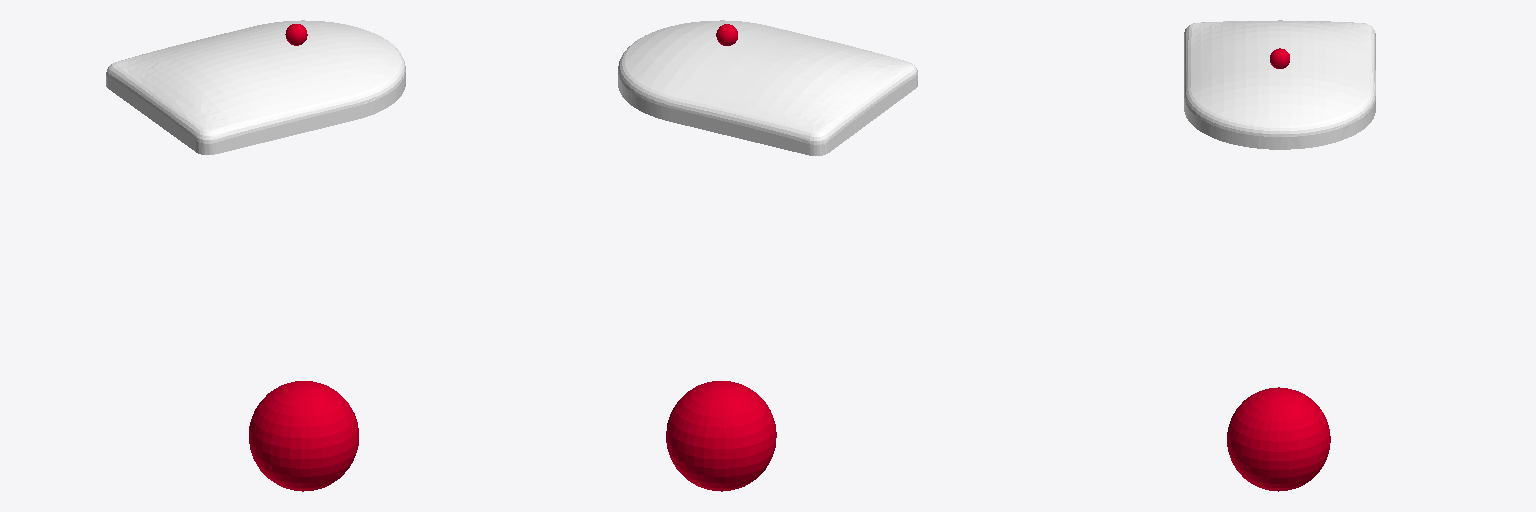
URDF robot description (lbr_iiwa):
<?xml version="1.0" ?>
<!-- ======================================================================= -->
<!-- | This document was autogenerated by xacro from lbr_iiwa.urdf.xacro   | -->
<!-- | Original xacro: https://github.com/rtkg/lbr_iiwa/archive/master.zip | -->
<!-- | EDITING THIS FILE BY HAND IS NOT RECOMMENDED                        | -->
<!-- | Changes ([author]):                                                 | -->
<!-- |   * Removed gazebo tags.                                            | -->
<!-- |   * Removed unused materials.                                       | -->
<!-- |   * Made mesh paths relative.                                       | -->
<!-- |   * Removed material fields from collision segments.                | -->
<!-- |   * Removed the self_collision_checking segment.                    | -->
<!-- |   * Removed transmission segments, since they didn't match the      | -->
<!-- |     convention, will have to added back later.                      | -->
<!-- ======================================================================= -->
<!--LICENSE:                                                                 -->
<!--Copyright (c) 2015, [author] & [author], AASS Research Center,  -->
<!--Orebro University, Sweden                                                -->
<!--All rights reserved.                                                     -->
<!--                                                                         -->
<!--Redistribution and use in source and binary forms, with or without       -->
<!--modification, are permitted provided that the following conditions are   -->
<!--met:                                                                     -->
<!--                                                                         -->
<!--1. Redistributions of source code must retain the above copyright notice,-->
<!--   this list of conditions and the following disclaimer.                 -->
<!--                                                                         -->
<!--2. Redistributions in binary form must reproduce the above copyright     -->
<!--   notice, this list of conditions and the following disclaimer in the   -->
<!--   documentation and/or other materials provided with the distribution.  -->
<!--                                                                         -->
<!--THIS SOFTWARE IS PROVIDED BY THE COPYRIGHT [author] "AS  -->
<!--IS" AND ANY EXPRESS OR IMPLIED WARRANTIES, INCLUDING, BUT NOT LIMITED TO,-->
<!--THE IMPLIED WARRANTIES OF MERCHANTABILITY AND FITNESS FOR A PARTICULAR   -->
<!--PURPOSE ARE DISCLAIMED. IN NO EVENT SHALL THE COPYRIGHT [author]        -->
<!--CONTRIBUTORS BE LIABLE FOR ANY DIRECT, INDIRECT, INCIDENTAL, SPECIAL,    -->
<!--EXEMPLARY, OR CONSEQUENTIAL DAMAGES (INCLUDING, BUT NOT LIMITED TO,      -->
<!--PROCUREMENT OF SUBSTITUTE GOODS OR SERVICES; LOSS OF USE, DATA, OR       -->
<!--PROFITS; OR BUSINESS INTERRUPTION) HOWEVER CAUSED AND ON ANY THEORY OF   -->
<!--LIABILITY, WHETHER IN CONTRACT, STRICT LIABILITY, OR TORT (INCLUDING     -->
<!--NEGLIGENCE OR OTHERWISE) ARISING IN ANY WAY OUT OF THE USE OF THIS       -->
<!--SOFTWARE, EVEN IF ADVISED OF THE POSSIBILITY OF SUCH DAMAGE.             -->

<robot name="lbr_iiwa" xmlns:xacro="http://www.ros.org/wiki/xacro">

  <!-- Import Rviz colors -->
  <material name="Grey">
    <color rgba="0.2 0.2 0.2 1.0"/>
  </material>
  <material name="Orange">
    <color rgba="1.0 0.423529411765 0.0392156862745 1.0"/>
  </material>
  <material name="Blue">
  <color rgba="0.5 0.7 1.0 1.0"/>
</material>
<material name="TransparentRed">
  <color rgba="0.9 0 0.2 0.5"/>
</material>

<link name="world"/>
<joint name="world_joint" type="fixed">
  <parent link="world"/>
  <child link="base_link"/>
  <origin rpy="0.0 0.0 0.0" xyz="0.0 0.0 0.0"/>
</joint>


  <link name="base_link">
    <inertial>
      <origin rpy="0 0 0" xyz="-0.1 0 0.07"/>
      <mass value="0.0"/>
      <inertia ixx="0.05" ixy="0" ixz="0" iyy="0.06" iyz="0" izz="0.03"/>
    </inertial>
    <visual>
      <origin rpy="0 0 0" xyz="0 0 0"/>
      <geometry>
        <mesh filename="meshes/link_0.obj"/>
      </geometry>
      <material name="Grey"/>
    </visual>
    <collision>
      <origin rpy="0 0 0" xyz="0 0 0"/>
      <geometry>
        <mesh filename="meshes/link_0.stl"/>
      </geometry>
    </collision>
  </link>

  <!-- joint between link_0 and link_1 -->
  <joint name="lbr_iiwa_joint_1" type="revolute">
    <parent link="base_link"/>
    <child link="lbr_iiwa_link_1"/>
    <origin rpy="0 0 0" xyz="0 0 0.1575"/>
    <axis xyz="0 0 1"/>
    <limit effort="300" lower="-100" upper="100" velocity="10"/>
    <dynamics damping="0.5"/>
  </joint>

  <link name="lbr_iiwa_link_1">
    <inertial>
      <origin rpy="0 0 0" xyz="0 -0.03 0.12"/>
      <mass value="4"/>
      <inertia ixx="0.1" ixy="0" ixz="0" iyy="0.09" iyz="0" izz="0.02"/>
    </inertial>
    <visual>
      <origin rpy="0 0 0" xyz="0 0 0"/>
      <geometry>
        <mesh filename="meshes/link_1.obj"/>
      </geometry>
      <material name="Blue"/>
    </visual>
    <collision>
      <origin rpy="0 0 0" xyz="0 0 0"/>
      <geometry>
        <mesh filename="meshes/link_1.stl"/>
      </geometry>
    </collision>
  </link>

  <!-- joint between link_1 and link_2 -->
  <joint name="lbr_iiwa_joint_2" type="revolute">
    <parent link="lbr_iiwa_link_1"/>
    <child link="lbr_iiwa_link_2"/>
    <origin rpy="1.57079632679   0 3.14159265359" xyz="0 0 0.2025"/>
    <axis xyz="0 0 1"/>
    <limit effort="300" lower="-100" upper="100" velocity="10"/>
    <dynamics damping="0.5"/>
  </joint>

  <link name="lbr_iiwa_link_2">
    <inertial>
      <origin rpy="0 0 0" xyz="0.0003 0.059 0.042"/>
      <mass value="4"/>
      <inertia ixx="0.05" ixy="0" ixz="0" iyy="0.018" iyz="0" izz="0.044"/>
    </inertial>
    <visual>
      <origin rpy="0 0 0" xyz="0 0 0"/>
      <geometry>
        <mesh filename="meshes/link_2.obj"/>
      </geometry>
      <material name="Blue"/>
    </visual>
    <collision>
      <origin rpy="0 0 0" xyz="0 0 0"/>
      <geometry>
        <mesh filename="meshes/link_2.stl"/>
      </geometry>
    </collision>
  </link>

  <!-- joint between link_2 and link_3 -->
  <joint name="lbr_iiwa_joint_3" type="revolute">
    <parent link="lbr_iiwa_link_2"/>
    <child link="lbr_iiwa_link_3"/>
    <origin rpy="1.57079632679 0 3.14159265359" xyz="0 0.2045 0"/>
    <axis xyz="0 0 1"/>
    <limit effort="300" lower="-100" upper="100" velocity="10"/>
    <dynamics damping="0.5"/>
  </joint>

  <link name="lbr_iiwa_link_3">
    <inertial>
      <origin rpy="0 0 0" xyz="0 0.03 0.13"/>
      <mass value="3"/>
      <inertia ixx="0.08" ixy="0" ixz="0" iyy="0.075" iyz="0" izz="0.01"/>
    </inertial>
    <visual>
      <origin rpy="0 0 0" xyz="0 0 0"/>
      <geometry>
        <mesh filename="meshes/link_3.obj"/>
      </geometry>
      <material name="Orange"/>
    </visual>
    <collision>
      <origin rpy="0 0 0" xyz="0 0 0"/>
      <geometry>
        <mesh filename="meshes/link_3.stl"/>
      </geometry>
    </collision>
  </link>

  <!-- joint between link_3 and link_4 -->
  <joint name="lbr_iiwa_joint_4" type="revolute">
    <parent link="lbr_iiwa_link_3"/>
    <child link="lbr_iiwa_link_4"/>
    <origin rpy="1.57079632679 0 0" xyz="0 0 0.2155"/>
    <axis xyz="0 0 1"/>
    <limit effort="300" lower="-100" upper="100" velocity="10"/>
    <dynamics damping="0.5"/>
  </joint>

  <link name="lbr_iiwa_link_4">
    <inertial>
      <origin rpy="0 0 0" xyz="0 0.067 0.034"/>
      <mass value="2.7"/>
      <inertia ixx="0.03" ixy="0" ixz="0" iyy="0.01" iyz="0" izz="0.029"/>
    </inertial>
    <visual>
      <origin rpy="0 0 0" xyz="0 0 0"/>
      <geometry>
        <mesh filename="meshes/link_4.obj"/>
      </geometry>
      <material name="Blue"/>
    </visual>
    <collision>
      <origin rpy="0 0 0" xyz="0 0 0"/>
      <geometry>
        <mesh filename="meshes/link_4.stl"/>
      </geometry>
    </collision>
  </link>

  <!-- joint between link_4 and link_5 -->
  <joint name="lbr_iiwa_joint_5" type="revolute">
    <parent link="lbr_iiwa_link_4"/>
    <child link="lbr_iiwa_link_5"/>
    <origin rpy="-1.57079632679 3.14159265359 0" xyz="0 0.1845 0"/>
    <axis xyz="0 0 1"/>
    <limit effort="300" lower="-100" upper="100" velocity="10"/>
    <dynamics damping="0.5"/>
  </joint>

  <link name="lbr_iiwa_link_5">
    <inertial>
      <origin rpy="0 0 0" xyz="0.0001 0.021 0.076"/>
      <mass value="1.7"/>
      <inertia ixx="0.02" ixy="0" ixz="0" iyy="0.018" iyz="0" izz="0.005"/>
    </inertial>
    <visual>
      <origin rpy="0 0 0" xyz="0 0 0"/>
      <geometry>
        <mesh filename="meshes/link_5.obj"/>
      </geometry>
      <material name="Blue"/>
    </visual>
    <collision>
      <origin rpy="0 0 0" xyz="0 0 0"/>
      <geometry>
        <mesh filename="meshes/link_5.stl"/>
      </geometry>
    </collision>
  </link>

  <!-- joint between link_5 and link_6 -->
  <joint name="lbr_iiwa_joint_6" type="revolute">
    <parent link="lbr_iiwa_link_5"/>
    <child link="lbr_iiwa_link_6"/>
    <origin rpy="1.57079632679 0 0" xyz="0 0 0.2155"/>
    <axis xyz="0 0 1"/>
    <limit effort="300" lower="-100" upper="100" velocity="10"/>
    <dynamics damping="0.5"/>
  </joint>

  <link name="lbr_iiwa_link_6">
    <inertial>
      <origin rpy="0 0 0" xyz="0 0.0006 0.0004"/>
      <mass value="1.8"/>
      <inertia ixx="0.005" ixy="0" ixz="0" iyy="0.0036" iyz="0" izz="0.0047"/>
    </inertial>
    <visual>
      <origin rpy="0 0 0" xyz="0 0 0"/>
      <geometry>
        <mesh filename="meshes/link_6.obj"/>
      </geometry>
      <material name="Orange"/>
    </visual>
    <collision>
      <origin rpy="0 0 0" xyz="0 0 0"/>
      <geometry>
        <mesh filename="meshes/link_6.stl"/>
      </geometry>
    </collision>
  </link>

  <!-- joint between link_6 and link_7 -->
  <joint name="lbr_iiwa_joint_7" type="revolute">
    <parent link="lbr_iiwa_link_6"/>
    <child link="lbr_iiwa_link_7"/>
    <origin rpy="-1.57079632679 3.14159265359 0" xyz="0 0.081 0"/>
    <axis xyz="0 0 1"/>
    <limit effort="300" lower="-100" upper="100" velocity="10"/>
    <dynamics damping="0.5"/>
  </joint>

  <link name="lbr_iiwa_link_7">
    <inertial>
      <origin rpy="0 0 0" xyz="0 0 0.02"/>
      <mass value="0.3"/>
      <inertia ixx="0.001" ixy="0" ixz="0" iyy="0.001" iyz="0" izz="0.001"/>
    </inertial>
    <visual>
      <origin rpy="0 0 0" xyz="0 0 0"/>
      <geometry>
        <mesh filename="meshes/link_7.obj"/>
      </geometry>
      <material name="Grey"/>
    </visual>
    <collision>
      <origin rpy="0 0 0" xyz="0 0 0"/>
      <geometry>
        <mesh filename="meshes/link_7.stl"/>
      </geometry>
    </collision>
  </link>


  <!-- End Effector -->

  <joint name="ee_joint" type="fixed">
    <parent link="lbr_iiwa_link_7"/>
    <child link="ee_link"/>
    <origin rpy="3.14 0.0 0.0" xyz="0.0 0.0 0.04"/>
  </joint>

  <link name="ee_link">
    <visual>
      <origin rpy="0 0 0" xyz="0 0 0"/>
      <geometry>
        <sphere radius="0.005"/>
      </geometry>
       <material name="TransparentRed"/>
    </visual>
    <collision>
      <geometry>
        <sphere radius="0.001"/>
      </geometry>
      <origin rpy="0 0 0" xyz="0.0 0 0"/>
    </collision>
    <inertial>
      <mass value="0.0"/>
      <origin rpy="-3.14 0.0 1.57" xyz="0.0 0.0 0.0"/>
      <inertia ixx="0.001" ixy="0.0" ixz="0.0" iyy="0.001" iyz="0.0" izz="0.001"/>
    </inertial>
  </link>

  <!-- Digit -->
  <link
    name="digit_body_link">
    <inertial>
      <origin
        xyz="0.00443338071044421 -0.0140914049333968 4.96453152977634E-09+0.035"
        rpy="0 0 0" />
      <mass
        value="0.0077837104153161" />
      <inertia
        ixx="7.77176839696665E-07"
        ixy="-5.52554519832781E-09"
        ixz="-2.21347841658254E-13"
        iyy="1.5788930001559E-06"
        iyz="-8.96409493368731E-14"
        izz="1.05613167218354E-06" />
    </inertial>
    <visual>
      <origin
        xyz="0 0 0.035"
        rpy="0 0 0" />
      <geometry>
        <mesh filename="../digit/standard_digit/digit_asmb/meshes/digit_body.STL" />
      </geometry>
      <material
        name="digit_body">
        <color
          rgba="0.0 0.0 0.0 1" />
      </material>
    </visual>
    <collision>
      <origin
        xyz="0 0 0.035"
        rpy="0 0 0" />
      <geometry>
        <mesh filename="../digit/standard_digit/digit_asmb/meshes/digit_body.STL" />
      </geometry>
    </collision>
  </link>

  <joint name="digit_ee_joint" type="fixed">
    <parent link="ee_link"/>
    <child link="digit_body_link"/>
    <origin rpy="-3.14 0.0 3.14" xyz="0.0 0.0 0.0"/>
  </joint>

  <link name="digit_tip_link">
    <inertial>
      <origin
        xyz="-2.15568578500849E-07 0.00554133274527847 -0.00576051345741577-0.035"
        rpy="0 0 0" />
      <mass
        value="0.00130411151086353" />
      <inertia
        ixx="5.48284140746448E-08"
        ixy="-4.02703926962539E-12"
        ixz="-5.29135712007007E-14"
        iyy="3.03790231207661E-08"
        iyz="-1.56642204167579E-10"
        izz="8.26200689636922E-08" />
    </inertial>
    <visual>
      <origin
        xyz="0 0 -0.035"
        rpy="0 0 0" />
      <geometry>
        <mesh
          filename="../digit/standard_digit/digit_asmb_hollow/meshes/digit_core.STL" scale="1.0 1.0 1.0"/>
      </geometry>
      <material
        name="digit_skin">
        <color
          rgba="1.0 1.0 1.0 1" />
      </material>
    </visual>
    <collision>
      <origin
        xyz="0 0 -0.035"
        rpy="0 0 0" />
      <geometry>
        <mesh
          filename="../digit/standard_digit/digit_asmb/meshes/digit_core.STL" />
      </geometry>
    </collision>
  </link>

  <joint name="digit_tip_to_body" type="fixed">
    <origin
      xyz="-0.00151521951809463 -1.36251105150219E-05 -0.00415"
      rpy="-3.14159265358979 0 1.5707963267949" />
    <parent link="digit_body_link" />
    <child link="digit_tip_link" />
    <axis xyz="0 0 0" />
  </joint>

  <!-- TCP -->
  <link name="tcp_link">
    <visual>
      <origin rpy="0 0 0" xyz="0 0 0"/>
      <geometry>
        <sphere radius="0.001"/>
      </geometry>
       <material name="TransparentRed"/>
    </visual>
    <inertial>
      <mass value="0.0"/>
      <origin rpy="0.0 0.0 1.57" xyz="0.0 0.0 0.0"/>
      <inertia ixx="1.0" ixy="0.0" ixz="0.0" iyy="1.0" iyz="0.0" izz="1.0"/>
    </inertial>
  </link>

  <joint name="tcp_joint" type="fixed">
    <parent link="digit_body_link"/>
    <child link="tcp_link"/>
    <origin rpy="0 0 0" xyz="0.0007 0.0 0.040"/>
  </joint>

</robot>

--- What the picture shows (computed from the rendered views, not written in the file) ---
3 views of the same robot in one strip: view 1: azimuth 30°, elevation 25°; view 2: azimuth 150°, elevation 25°; view 3: azimuth 270°, elevation 25° (orthographic).
Robot: lbr_iiwa — 13 links, 12 joints (7 revolute, 5 fixed); root link world; default pose: every joint at zero.
Visible links, largest first — view 1: digit_tip_link, ee_link; view 2: digit_tip_link, ee_link; view 3: digit_tip_link, ee_link.
Link boxes in pixels (<box>): digit_tip_link: <box>106,20,405,154</box>; ee_link: <box>249,381,358,491</box>; digit_tip_link: <box>618,20,917,155</box>; ee_link: <box>666,381,776,491</box>; digit_tip_link: <box>1184,20,1375,149</box>; ee_link: <box>1227,387,1330,491</box>.
Bounding box of the posed robot: 0.025 × 0.0184 × 0.046 m (x, y, z).
Meshes: 10 distinct files referenced, 1 mesh visuals loaded (1 binary STL); not drawn: 9 (reference not matched to a file when rendering).